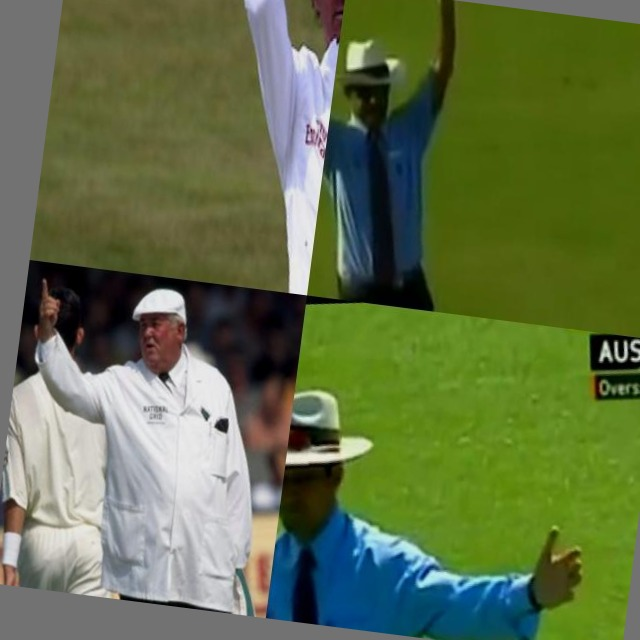No_Ball: (266, 338, 640, 640)
Out: (0, 260, 307, 618)
Six: (307, 0, 544, 321), (159, 0, 346, 295)
